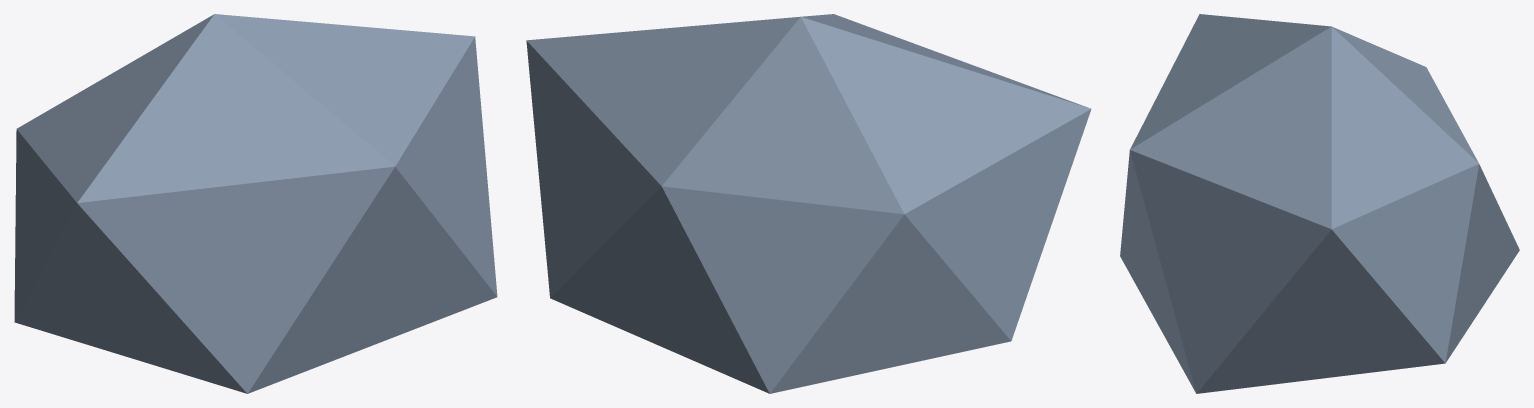
File: Env_Rock_A.fbx
3 views of the same model, side by side, from view 1: azimuth 30°, elevation 25°; view 2: azimuth 150°, elevation 25°; view 3: azimuth 270°, elevation 25° (orthographic). The views are drawn at different scales.
Visible parts, largest first — view 1: Env_Rock_A; view 2: Env_Rock_A; view 3: Env_Rock_A.
Part boxes in pixels (x1=…): Env_Rock_A: x1=14, y1=14, x2=497, y2=393; Env_Rock_A: x1=526, y1=14, x2=1091, y2=393; Env_Rock_A: x1=1120, y1=14, x2=1519, y2=393.
Size of the model in its own units: 2.26 by 1.58 by 1.76.
